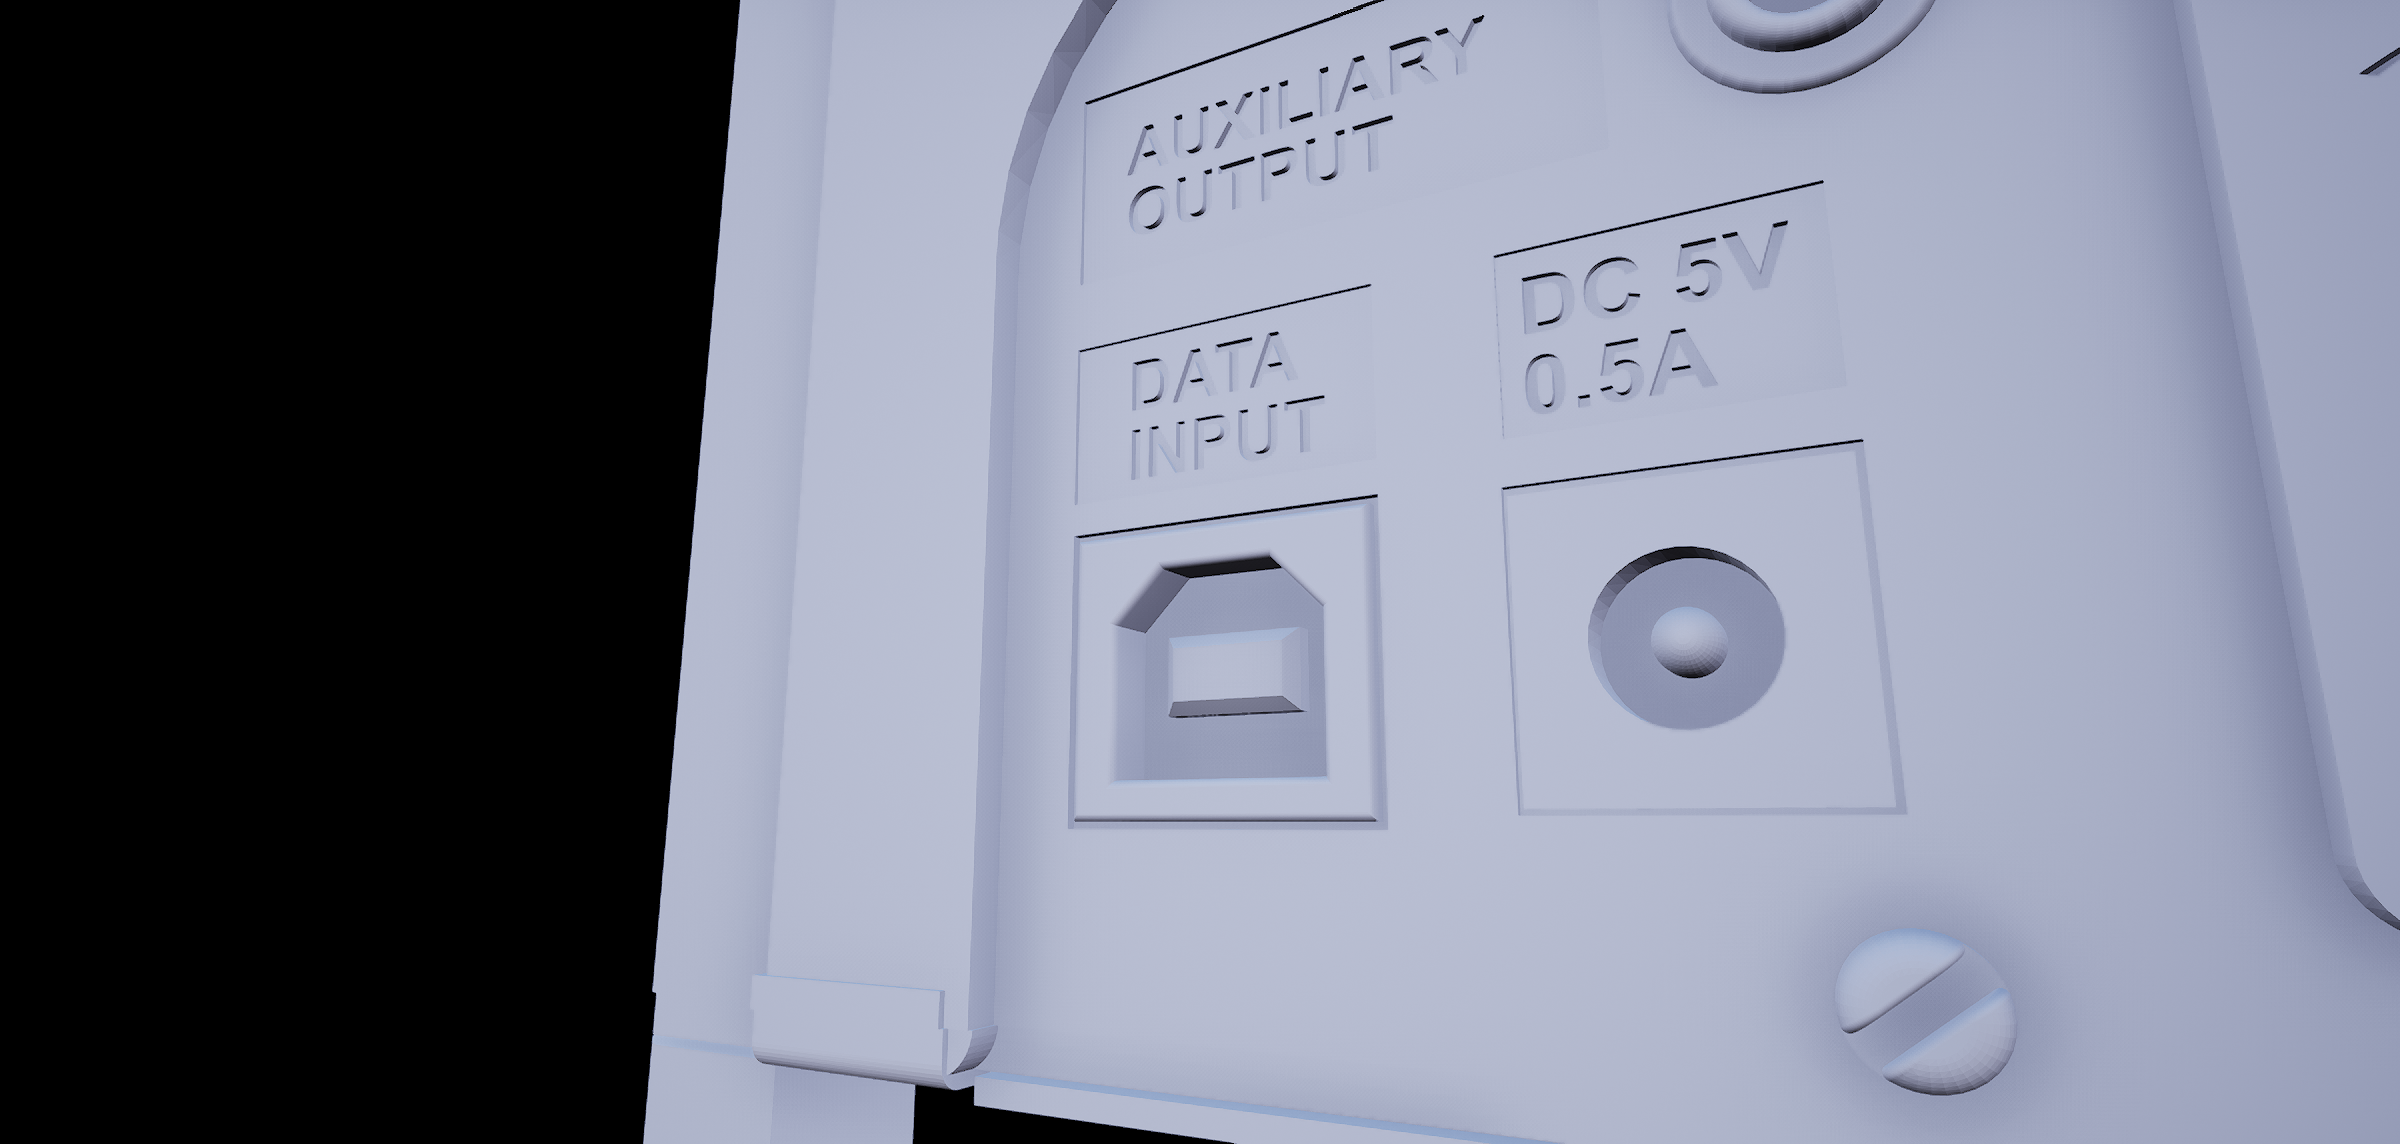aux: (1647, 2, 1961, 96)
dc: (1567, 528, 1805, 755)
usb: (1110, 554, 1342, 789)
